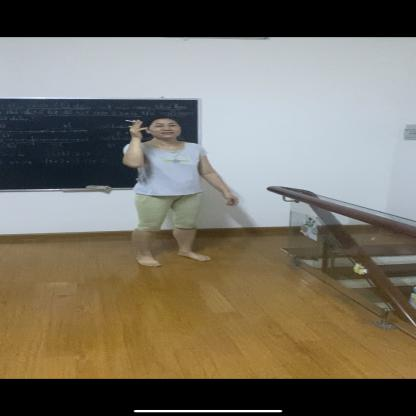cigarette: (124, 119, 136, 123)
person: (124, 115, 240, 269)
